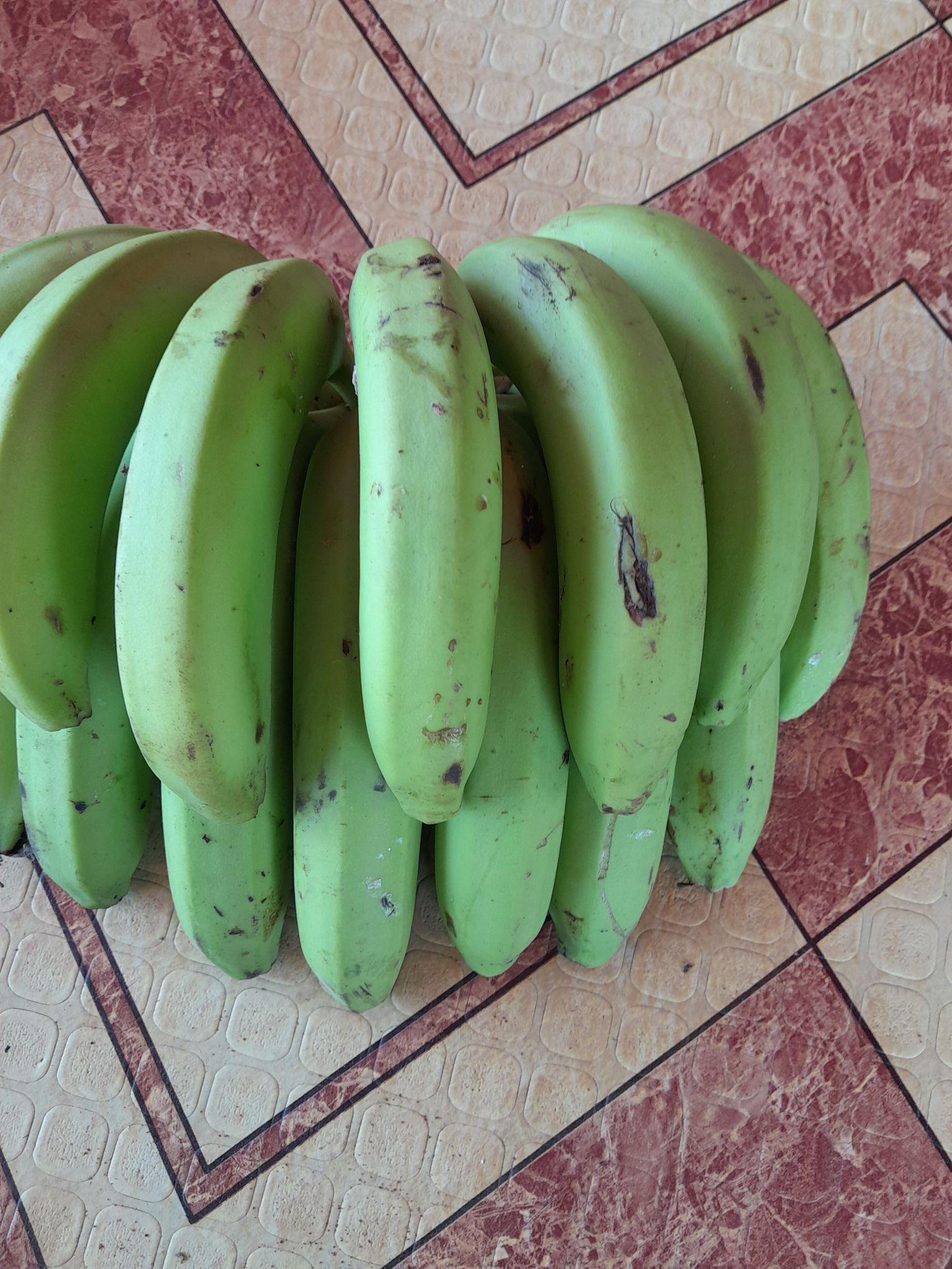Banana Unripe: (538, 206, 818, 726), (459, 235, 707, 815), (0, 231, 260, 731), (117, 258, 345, 823), (161, 421, 322, 979), (350, 238, 501, 823), (293, 414, 421, 1011), (436, 414, 568, 977), (17, 441, 151, 910), (746, 258, 870, 721), (669, 657, 781, 892), (550, 761, 674, 967), (0, 226, 156, 333), (622, 436, 627, 441)
